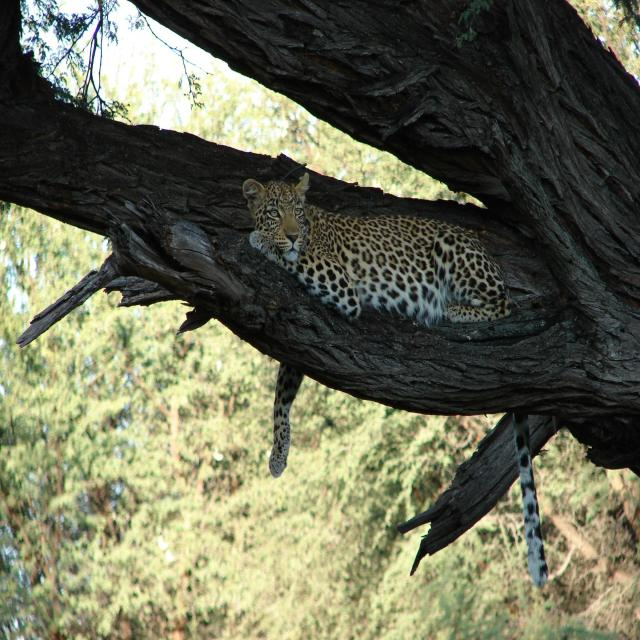Leopard: (226, 143, 546, 602)
